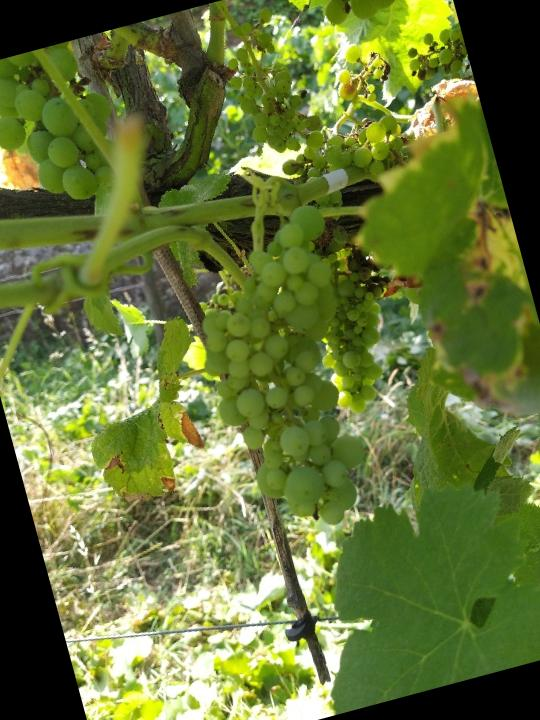grape: (166, 198, 406, 549), (306, 259, 408, 419)
